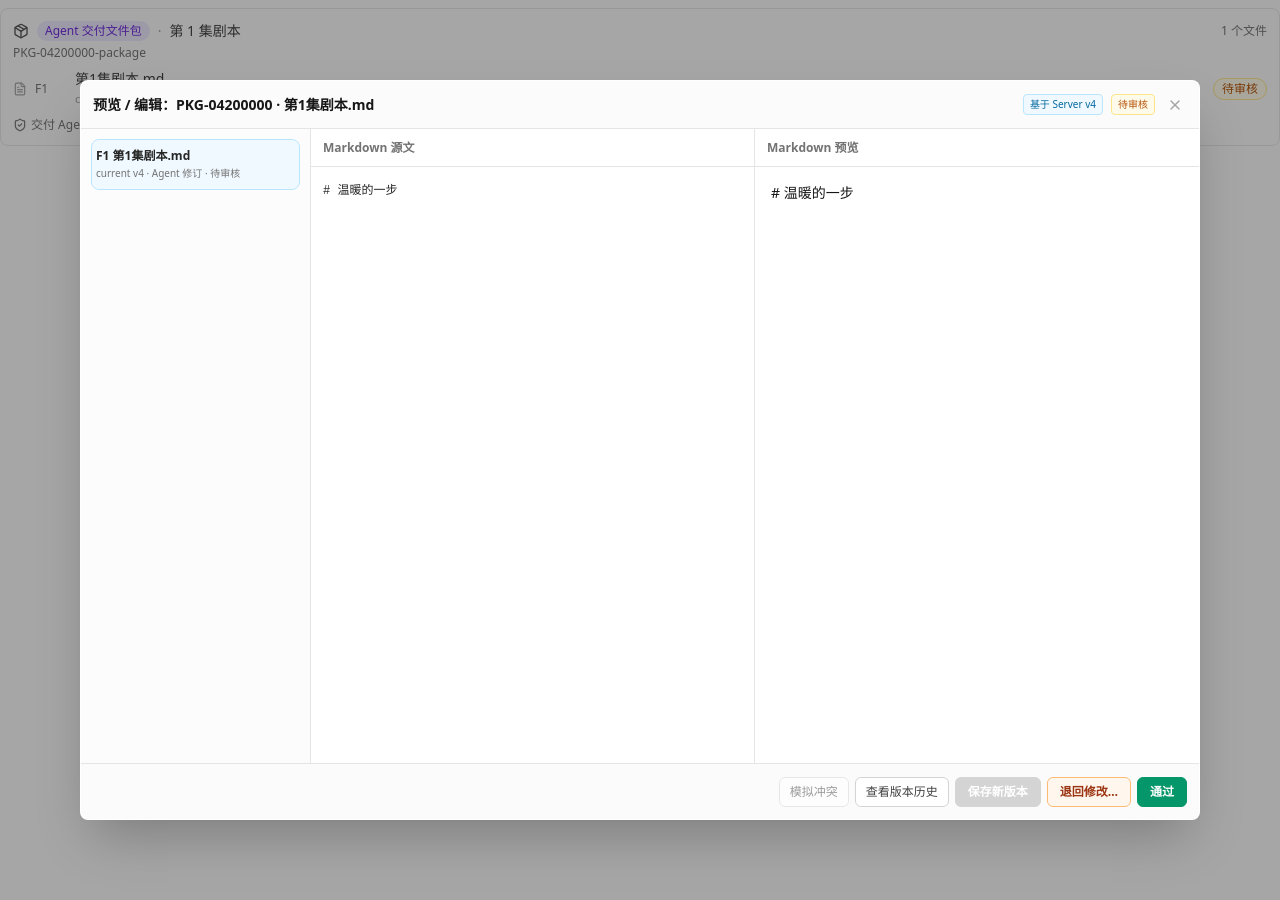
Test case: OutputPackagePreviewModal 原型收敛 › 保存并通过新版本后，卡片版本说明和审核态同步到 current，冻结交付版保持待审核
Check: the text "待审核" below "个文件" is shown, box [1222,80,1258,97]
Replace the text in the text box named "Markdown 源文" with "# 审核后的修改稿" at (532, 465), box [311,167,754,763]
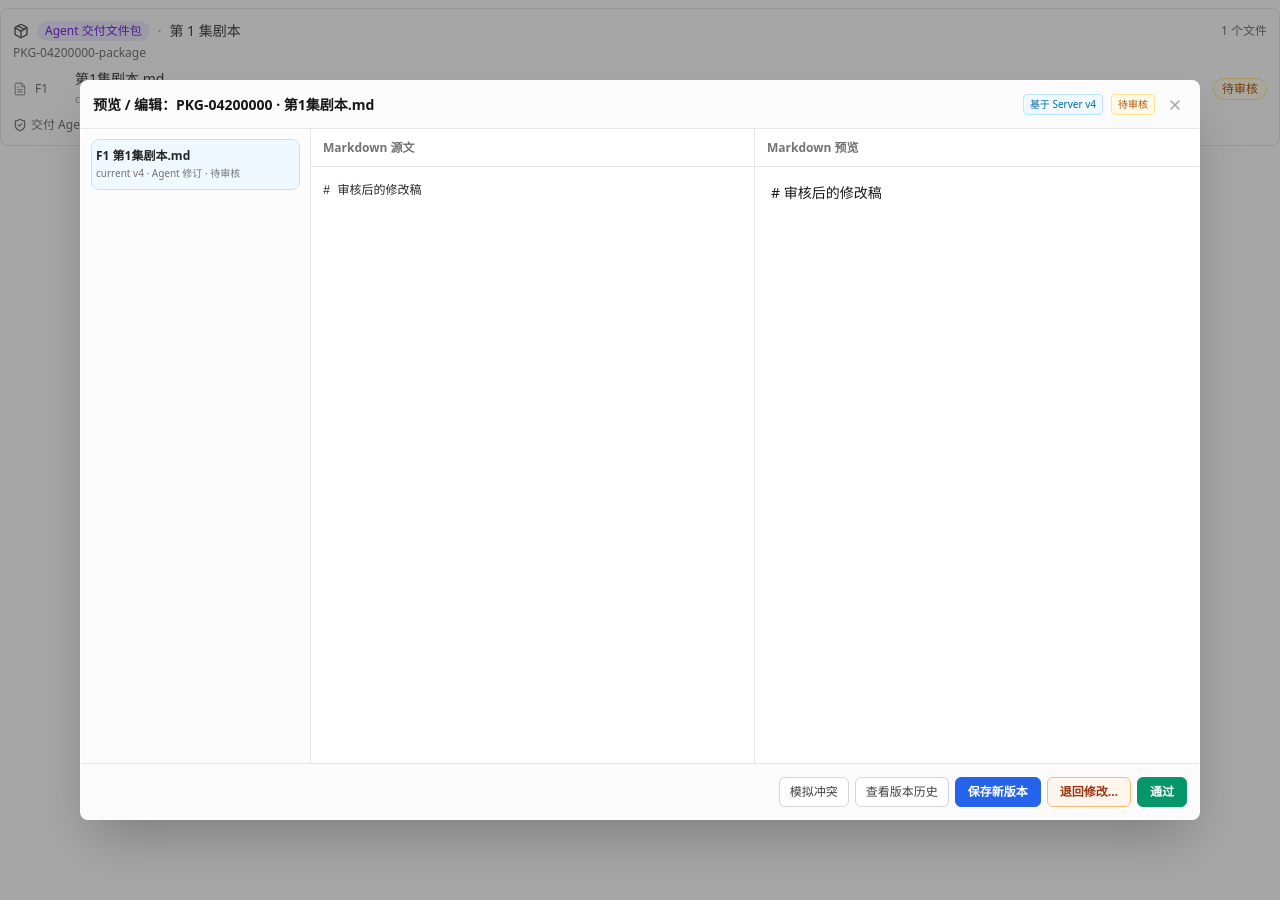
Click the button "通过".
click(1162, 792)  # box [1137,776,1187,806]
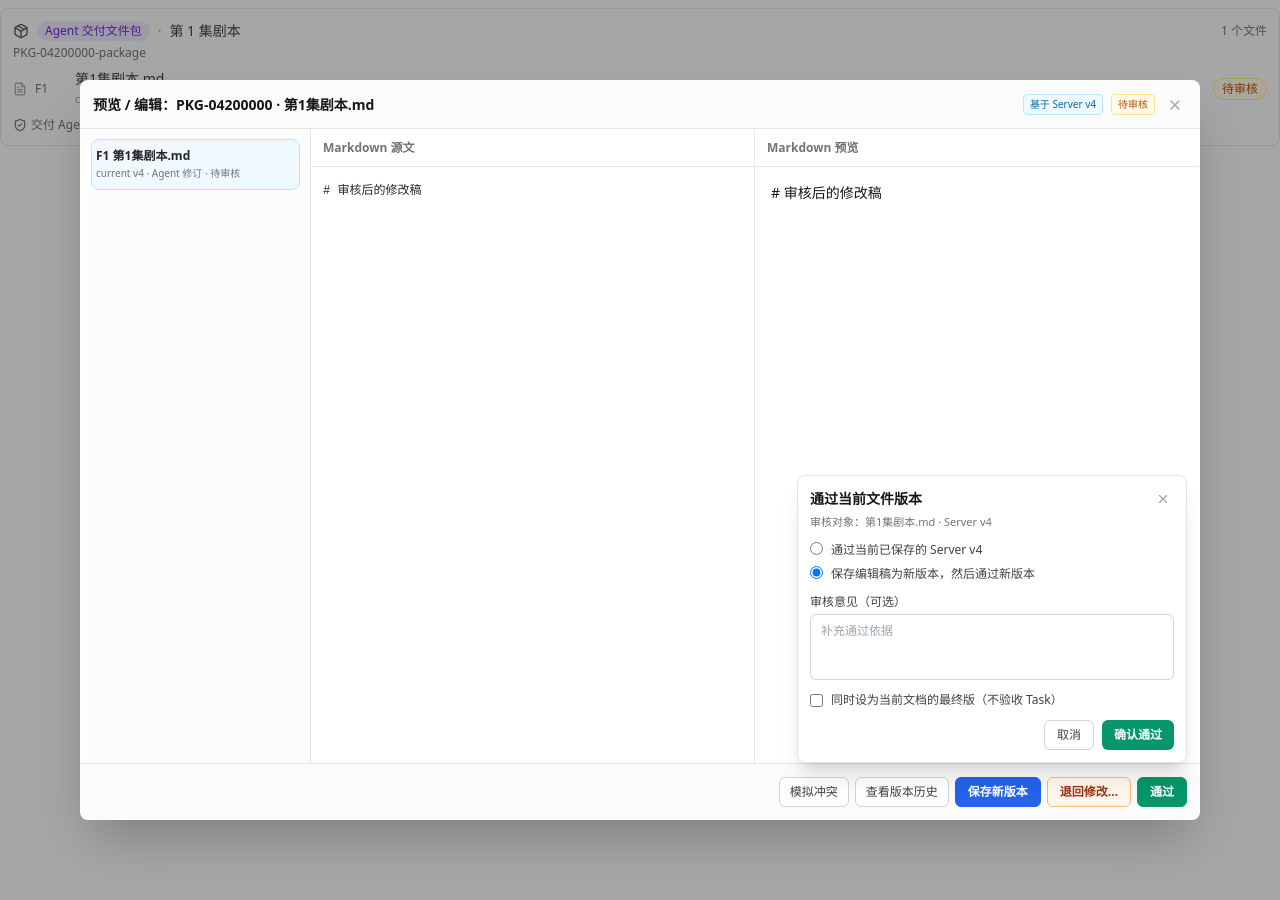
Click the button "确认通过".
click(1138, 735)  # box [1102,720,1174,750]
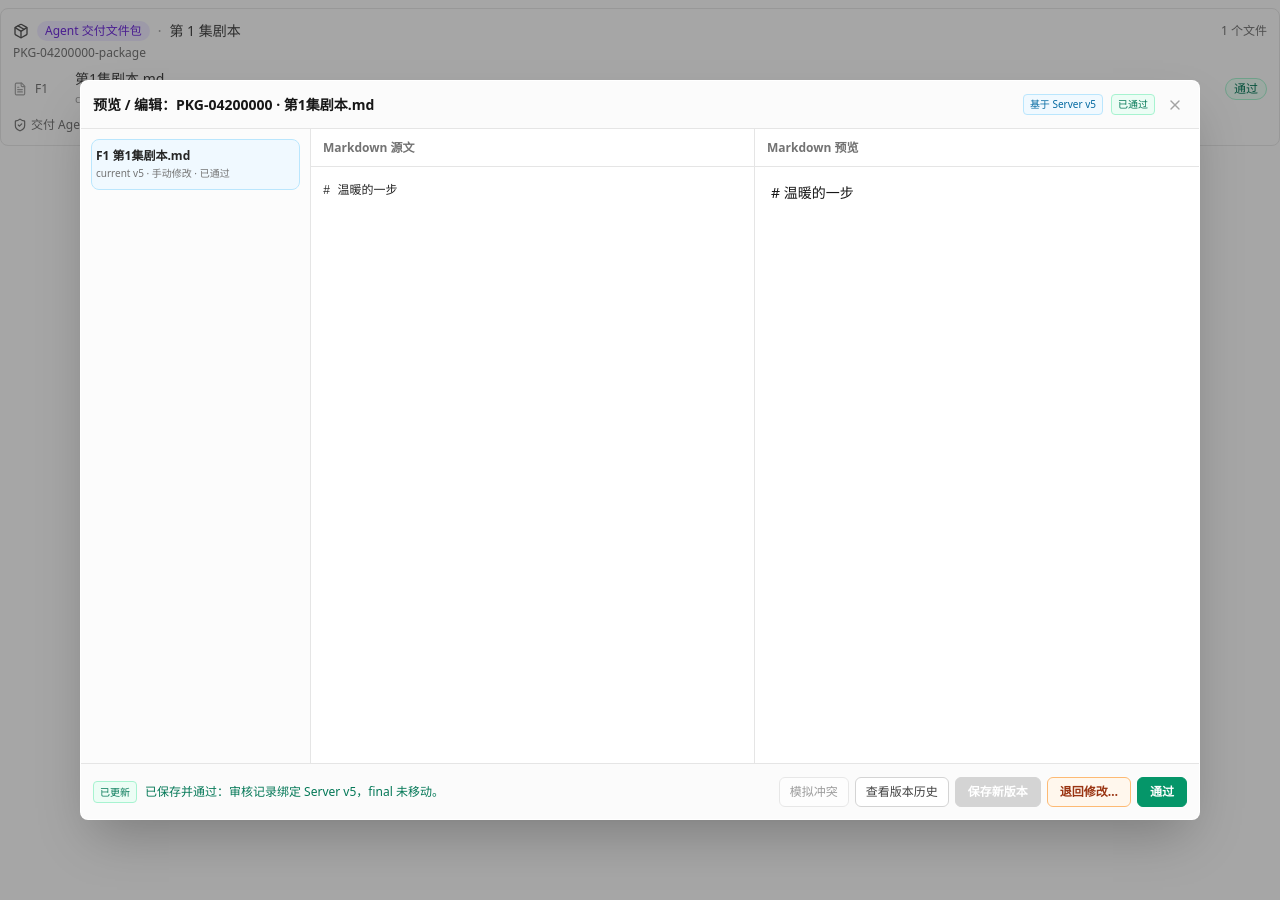
Check: the text "已保存并通过：审核记录绑定 Server v5，final 未移动。" is shown, box [145,784,444,800]
Click the button titled "关闭".
click(1175, 104)  # box [1163,92,1187,116]
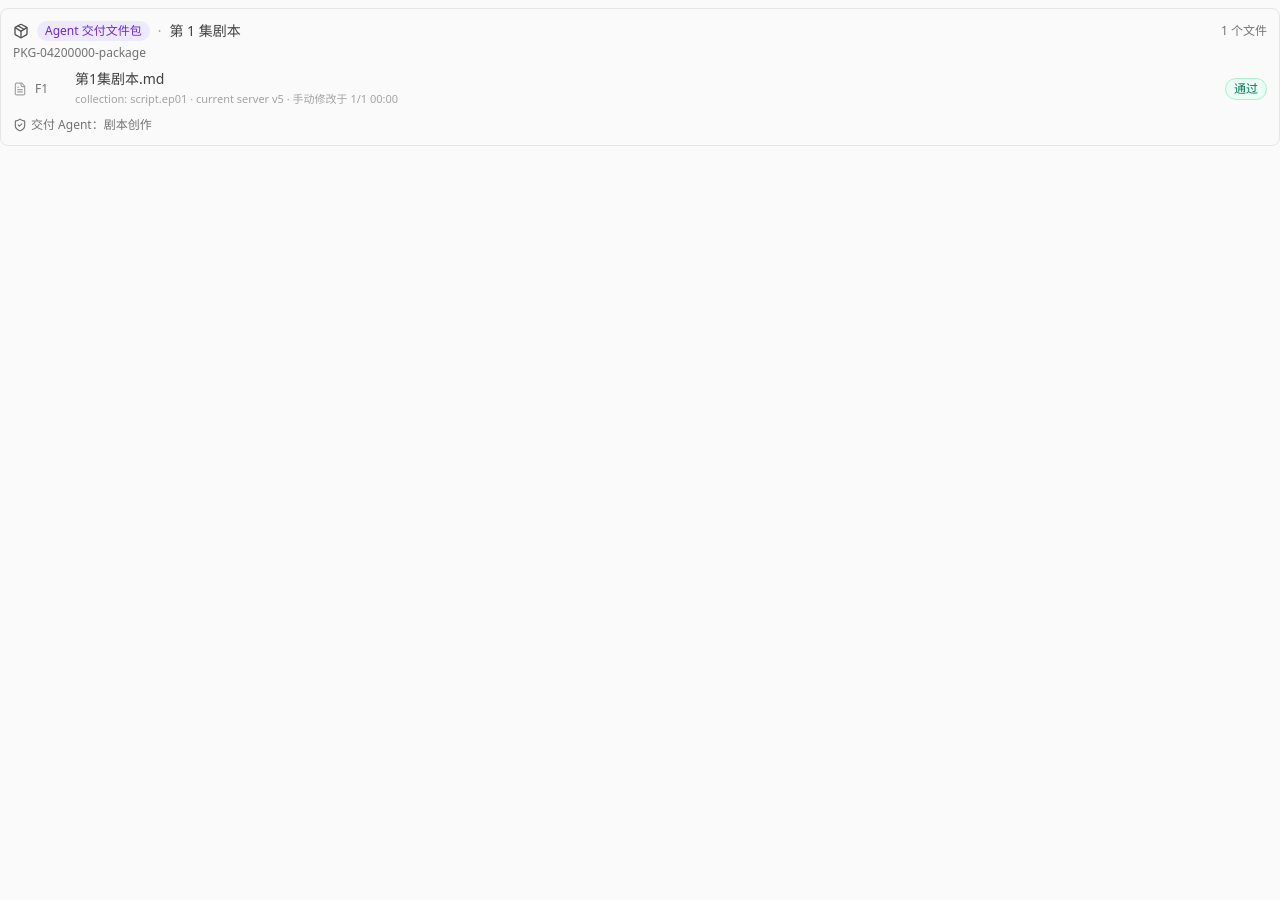
Check: the text "current server v5" is shown, box [75,91,398,106]
Check: the text "通过" is shown, box [1225,78,1267,100]
Check: the dialog is gone
